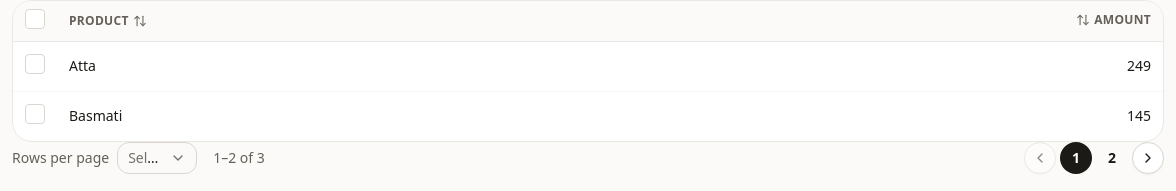
Test: DataTable › sorts by clicking a header and exposes aria-sort
The image size is (1176, 191).
// Numeric columns sort descending first (largest amounts on top), then ascending.
Click the button "Amount" at (1114, 20), box x1=1070 y1=10 x2=1157 y2=30
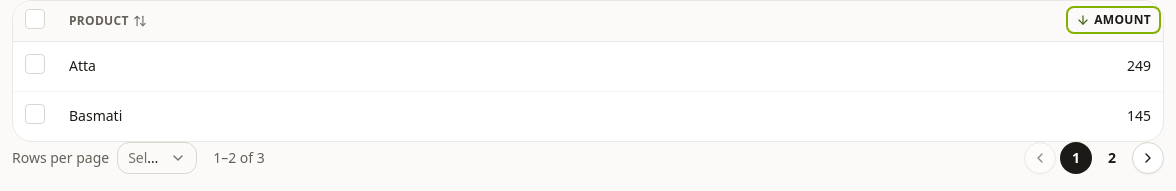
Expected: the cell "Atta" is shown, x1=57 y1=42 x2=618 y2=91
Result: the column heading "Amount" has attribute aria-sort="descending" at x1=618 y1=1 x2=1163 y2=41
Click the button "Amount" at (1114, 20), box x1=1070 y1=10 x2=1157 y2=30
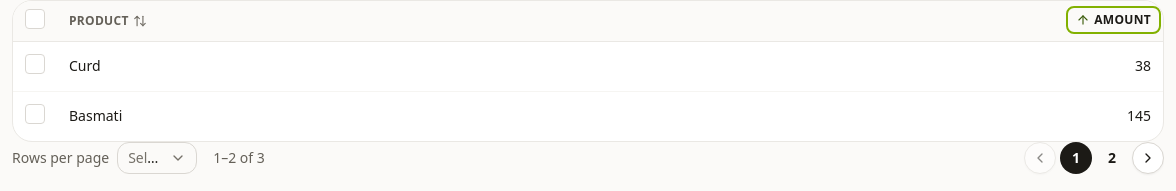
Result: the cell "Curd" is shown at x1=57 y1=42 x2=618 y2=91
